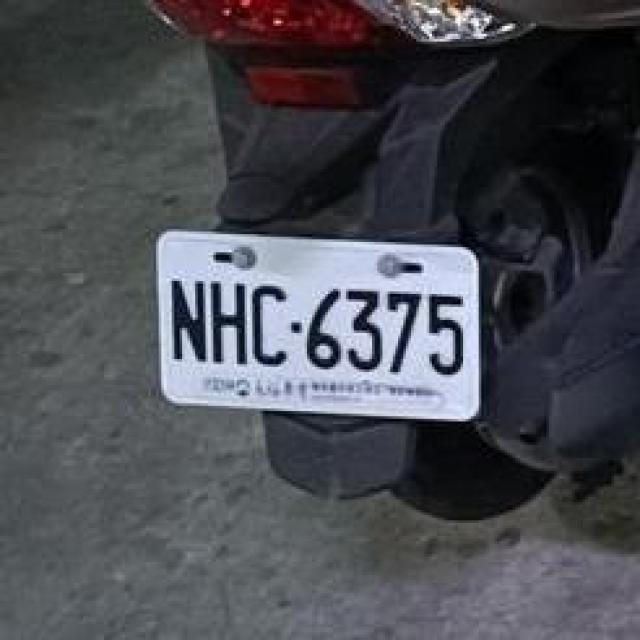W: (140, 216, 494, 429)
